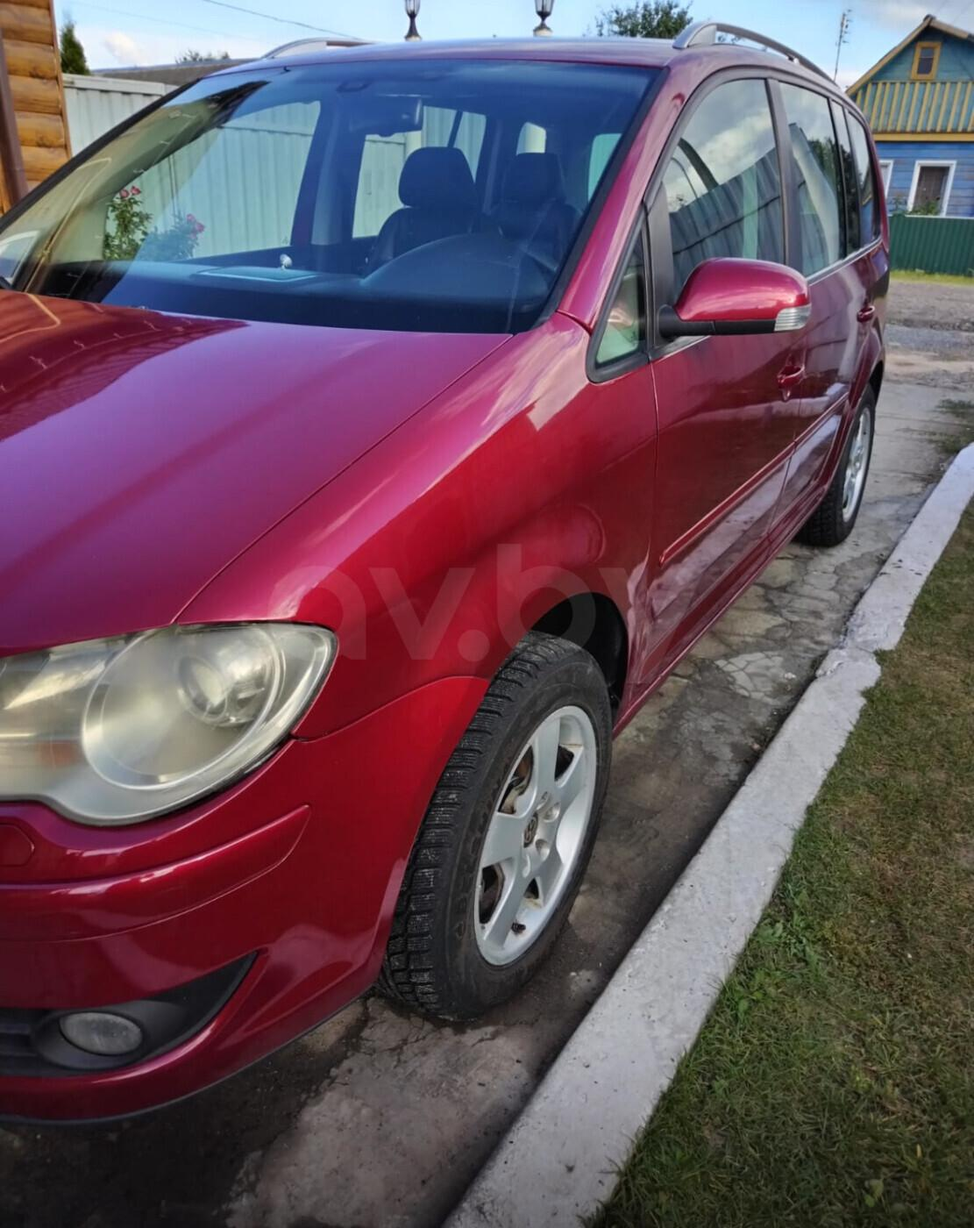Touran_2006-2010: (0, 21, 889, 1123)
